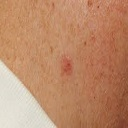Carcinoma: (53, 51, 75, 82)
